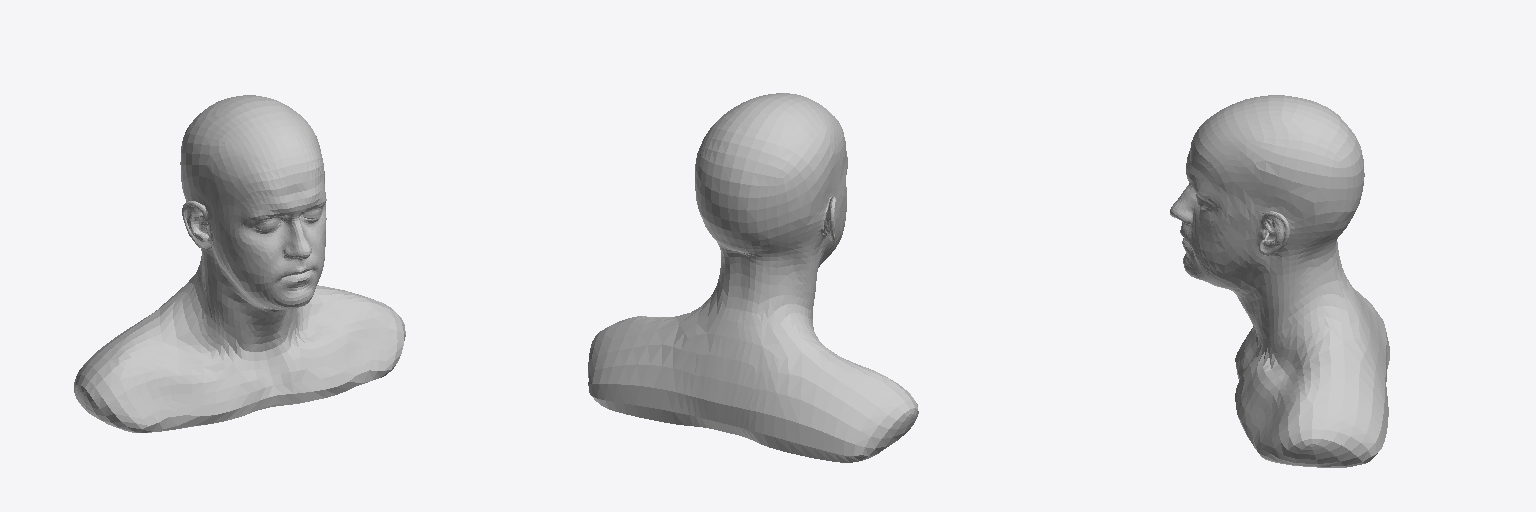
File: head.obj
The picture shows the model from 3 angles: view 1: azimuth 30°, elevation 25°; view 2: azimuth 150°, elevation 25°; view 3: azimuth 270°, elevation 25°; orthographic projection.
Bounding box in the file's own units: 0.4533 × 0.4211 × 0.2746.